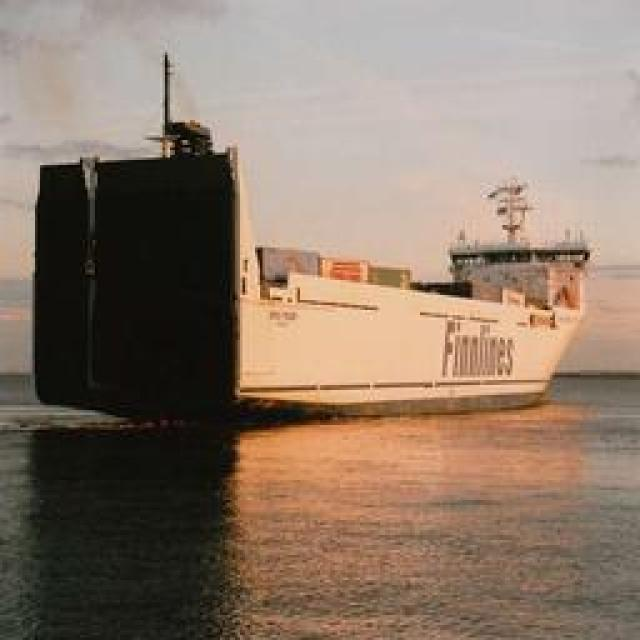CIV_Ship: (225, 241, 588, 411)
